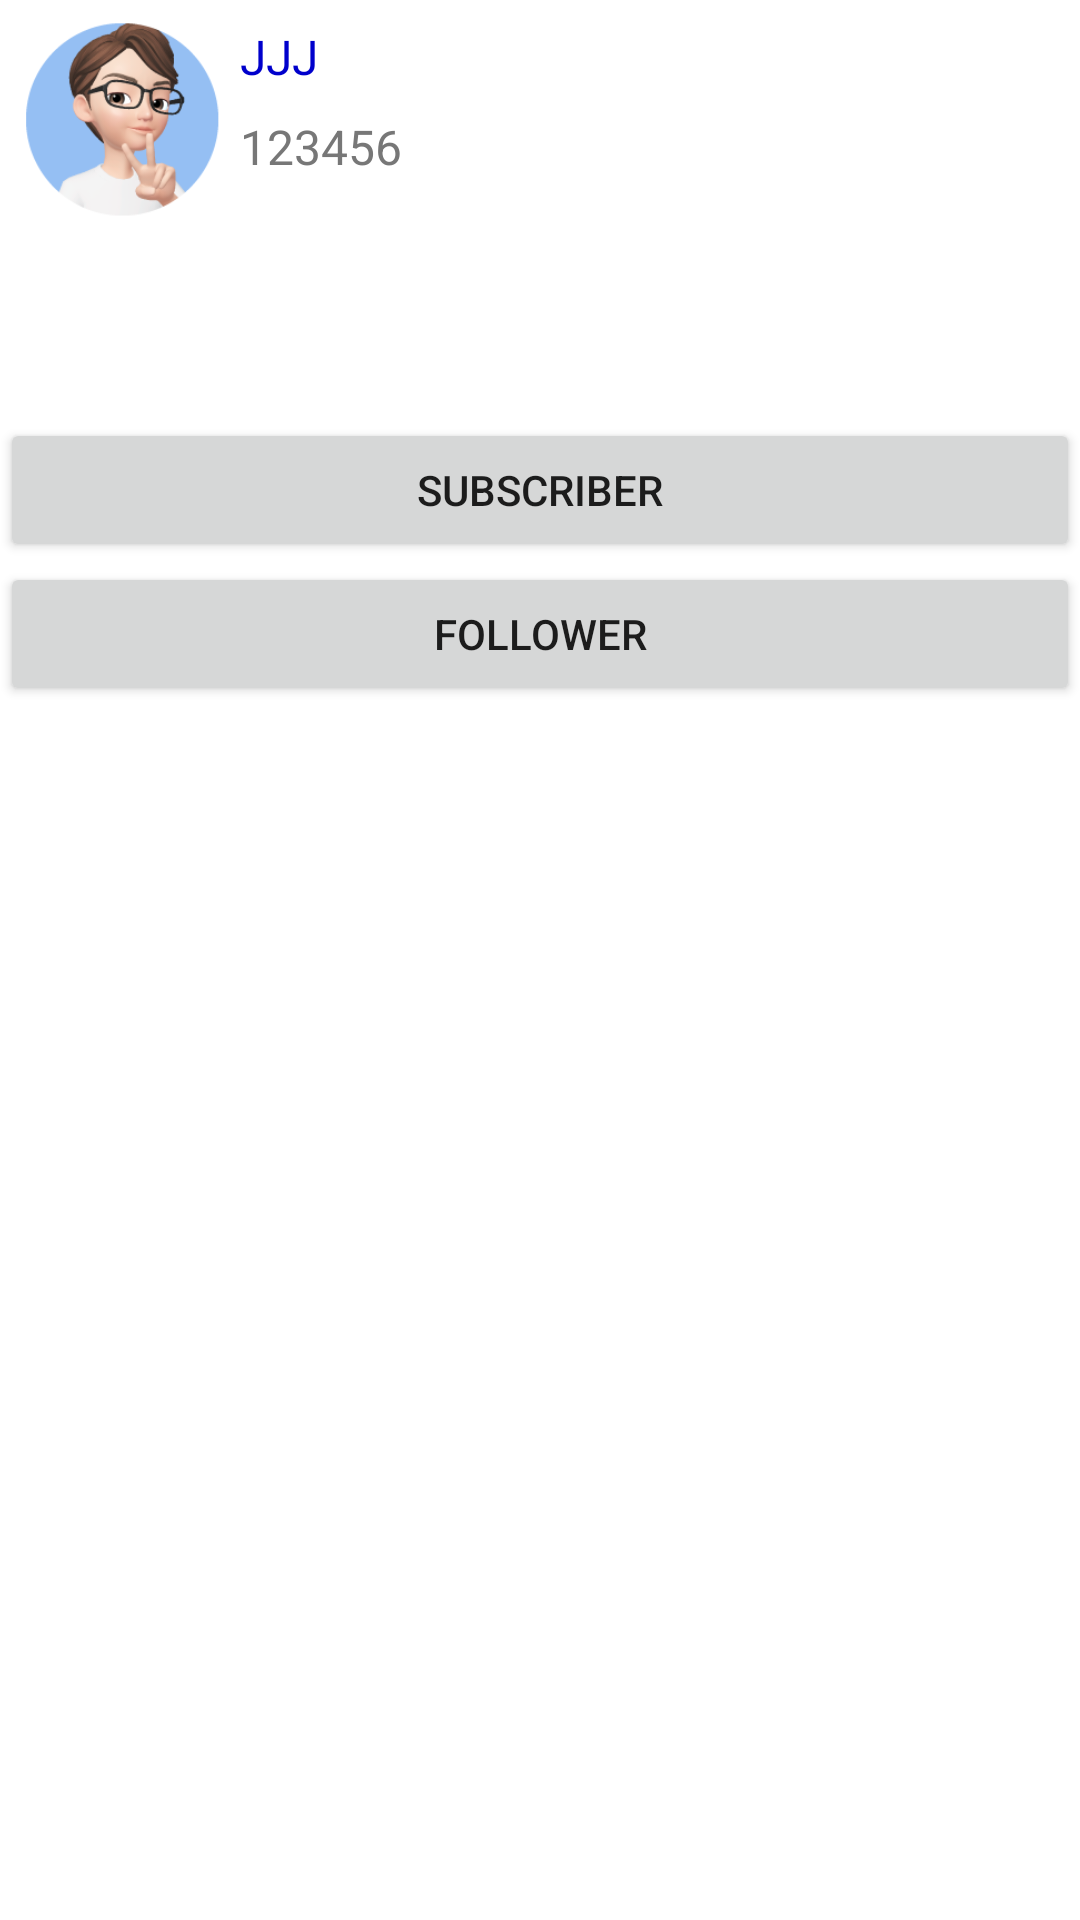

Named icons in this screenshot (1080 x 1920) and their bounding boxes, (x1, y1, x2, y2):
photo: (26, 23, 219, 211)
